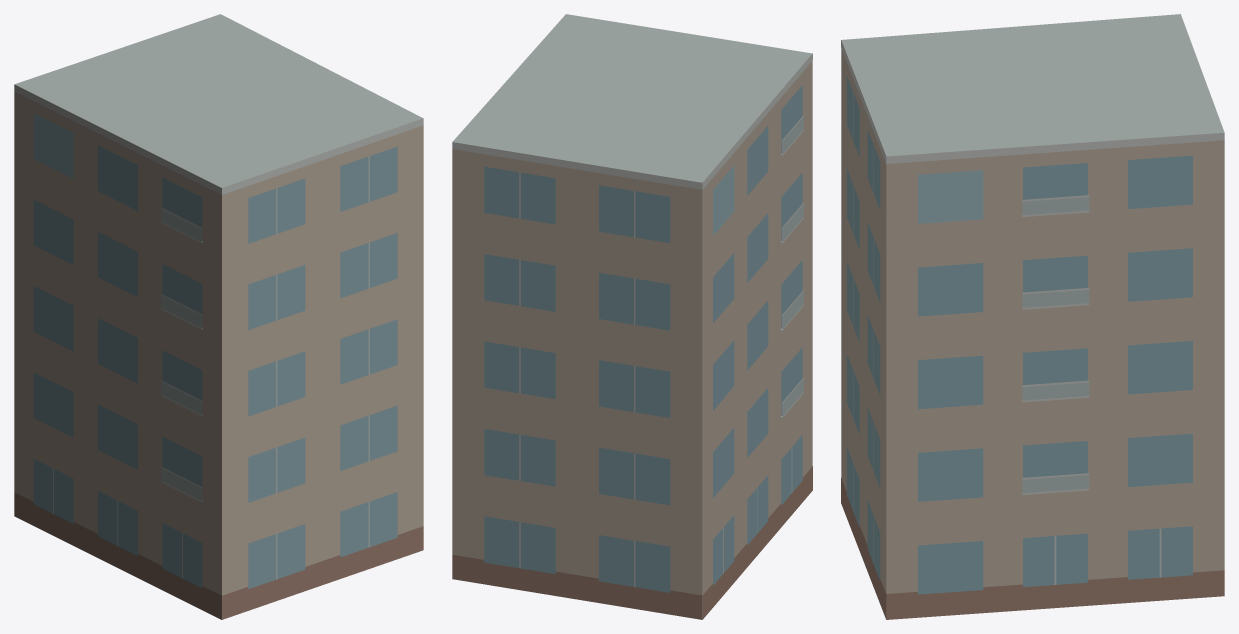
The model's file is survey-upis-32817600.glb.
3 renders of one model, left to right at view 1: azimuth 30°, elevation 25°; view 2: azimuth 150°, elevation 25°; view 3: azimuth 270°, elevation 25°, orthographic. The views are drawn at different scales.
Parts seen in each view (by area): view 1: survey-upis-32817600.tmp; view 2: survey-upis-32817600.tmp; view 3: survey-upis-32817600.tmp.
Part boxes in pixels (box(x1,y1,x2,y2)): survey-upis-32817600.tmp: box(14, 14, 423, 619); survey-upis-32817600.tmp: box(452, 14, 812, 619); survey-upis-32817600.tmp: box(841, 14, 1224, 619).
Size of the model in its own units: 9.97 by 15.1 by 11.34.
